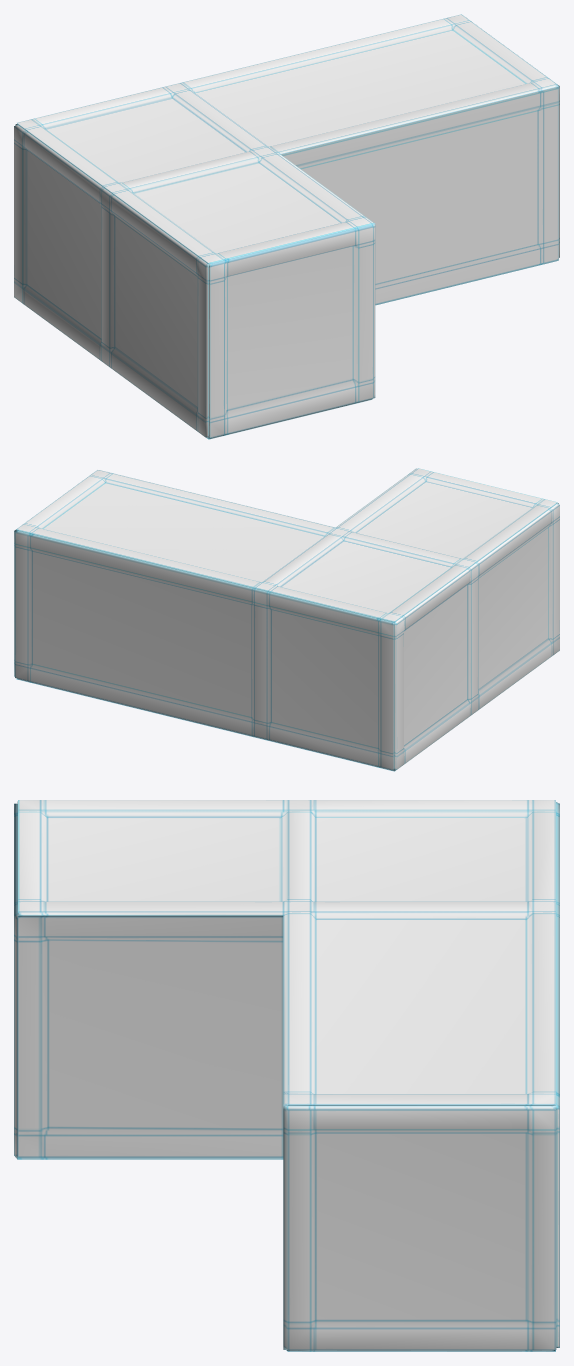
The model's file is L_block.fbx.
The picture shows the model from 3 angles, top to bottom: view 1: azimuth 30°, elevation 25°; view 2: azimuth 150°, elevation 25°; view 3: azimuth 270°, elevation 25°; orthographic projection. The views are drawn at different scales.
Parts seen in each view (by area): view 1: pCube7; view 2: pCube7; view 3: pCube7.
Boxes of the visible parts, bbox=[...] form: pCube7: bbox=[14, 14, 559, 439]; pCube7: bbox=[14, 468, 559, 771]; pCube7: bbox=[14, 800, 559, 1351].
Size of the model in its own units: 1602 by 600 by 1200.
